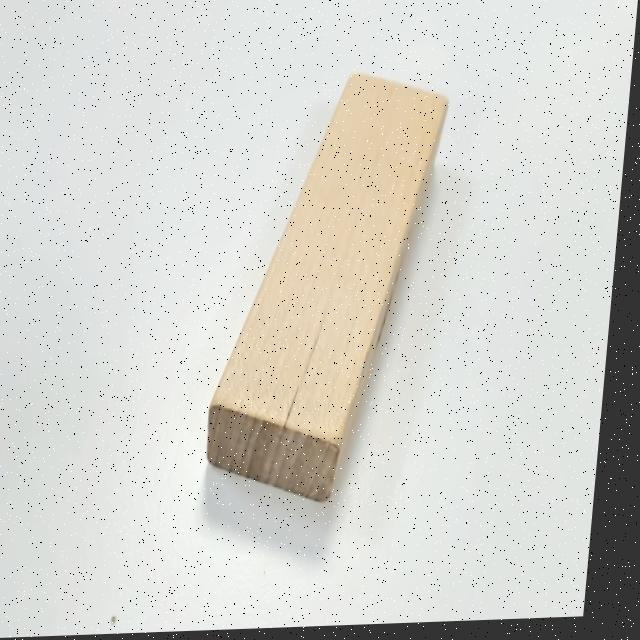Jenga: (208, 72, 453, 511)
